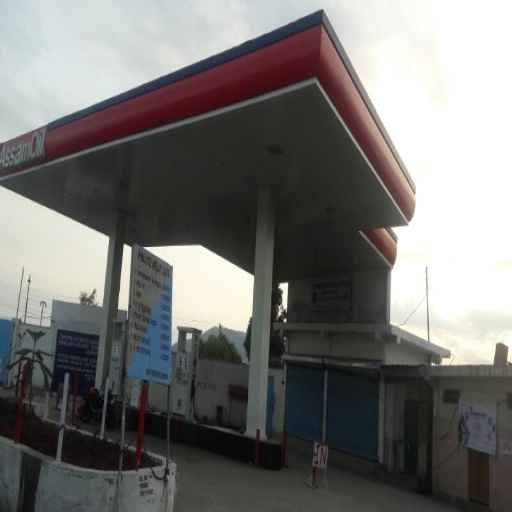roof: (1, 12, 411, 225)
